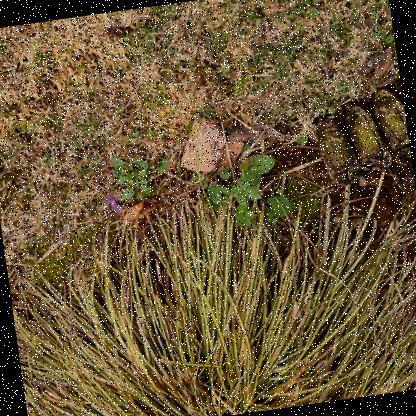Weeds: (200, 137, 296, 231), (110, 150, 174, 202)
